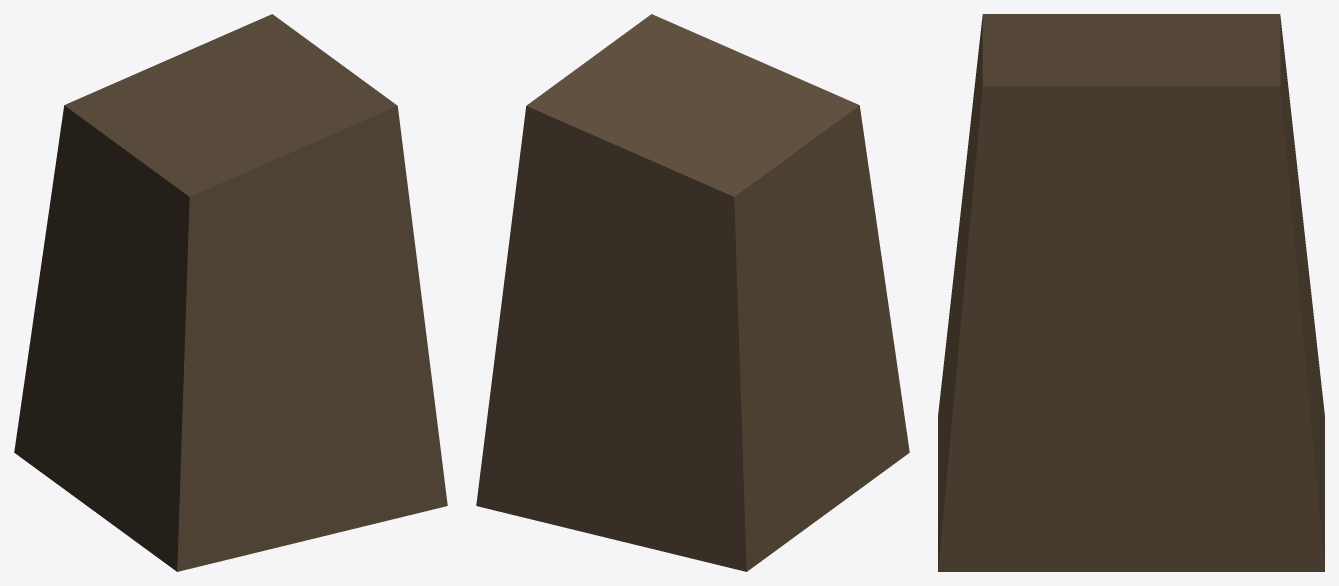
3 renders of one model, left to right at view 1: azimuth 30°, elevation 25°; view 2: azimuth 150°, elevation 25°; view 3: azimuth 270°, elevation 25°, orthographic. The views are drawn at different scales.
Visible parts, largest first — view 1: Box001; view 2: Box001; view 3: Box001.
Part boxes in pixels (box(x1,y1,x2,y2)): Box001: box(14, 14, 447, 571); Box001: box(476, 14, 909, 571); Box001: box(938, 14, 1324, 571).
Bounding box in the file's own units: 10.85 × 15.1 × 11.32.
